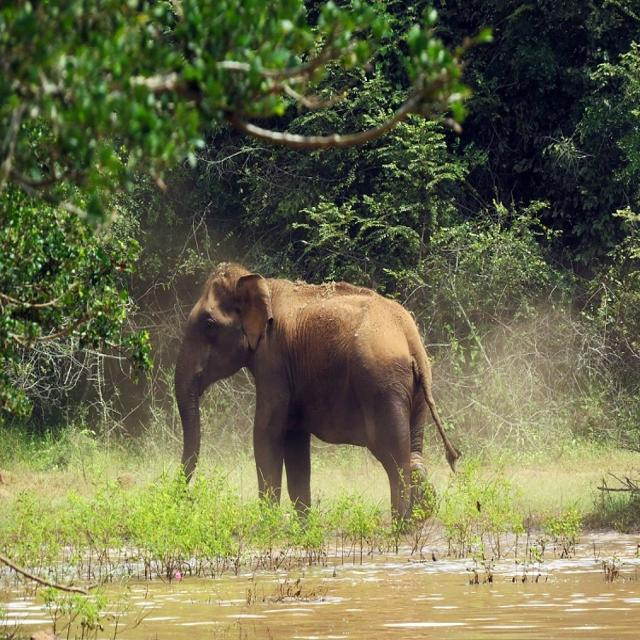elephant: (124, 231, 494, 565)
